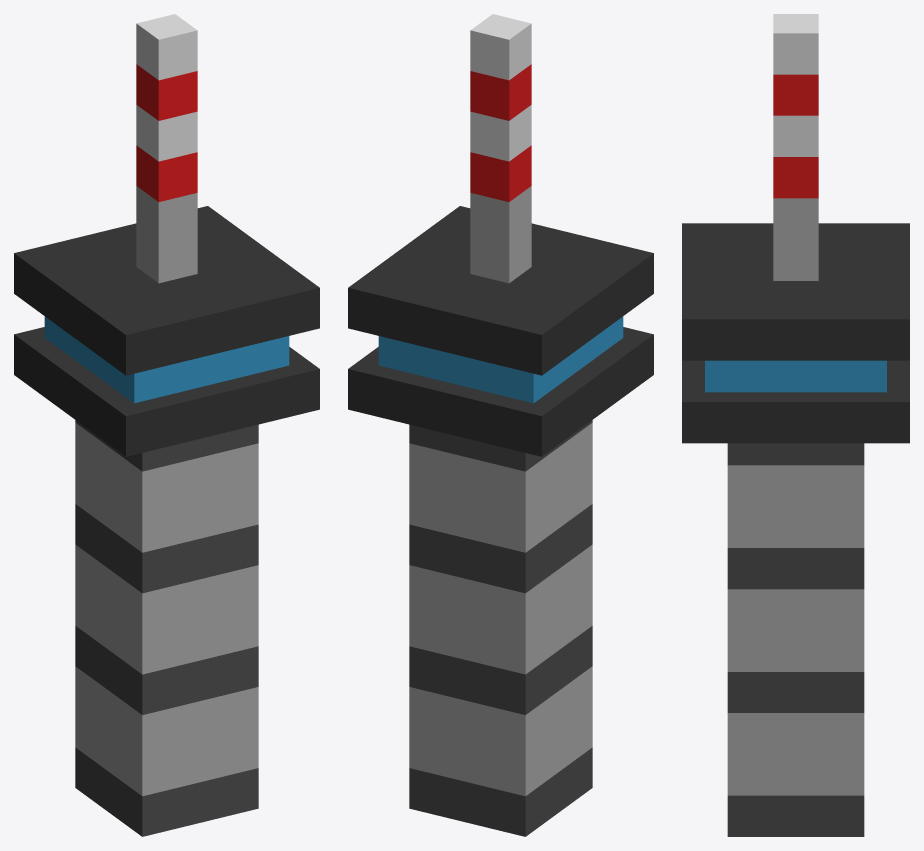
Rendered from tower.obj.
3 renders of one model, left to right at view 1: azimuth 30°, elevation 25°; view 2: azimuth 150°, elevation 25°; view 3: azimuth 270°, elevation 25°, orthographic.
Size of the model in its own units: 5 by 19 by 5.
